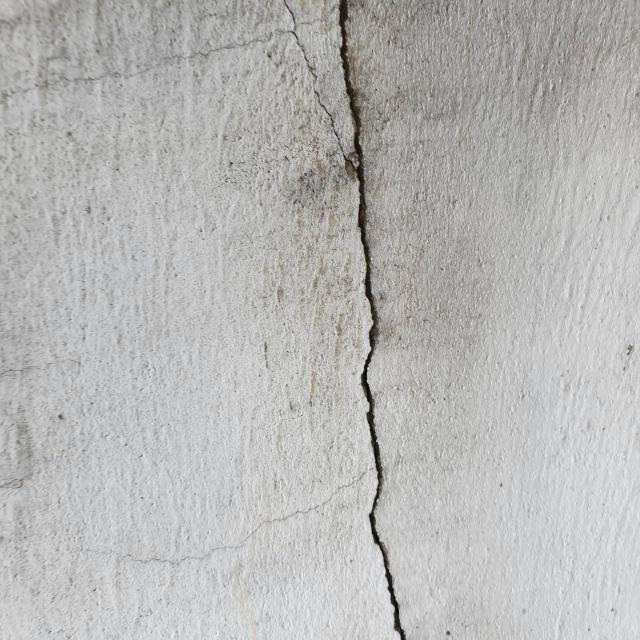SurfaceCrack: (259, 0, 440, 640)
